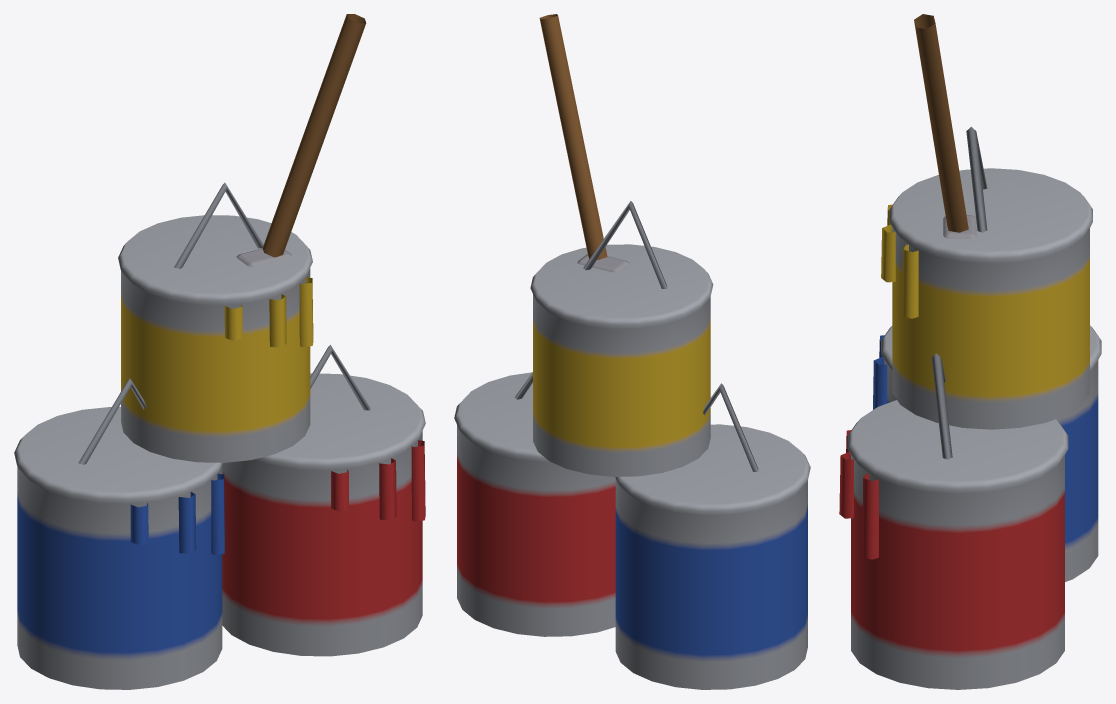
File: furn_paint_cans.glb
3 views of the same model, side by side, from view 1: azimuth 30°, elevation 25°; view 2: azimuth 150°, elevation 25°; view 3: azimuth 270°, elevation 25° (orthographic). The views are drawn at different scales.
Visible parts, largest first — view 1: furn_paint_cans_main; view 2: furn_paint_cans_main; view 3: furn_paint_cans_main.
Part boxes in pixels (bbox=[...]): furn_paint_cans_main: bbox=[14, 14, 425, 689]; furn_paint_cans_main: bbox=[454, 14, 810, 689]; furn_paint_cans_main: bbox=[839, 14, 1101, 689].
Size of the model in its own units: 0.5378 by 0.8439 by 0.3151.
